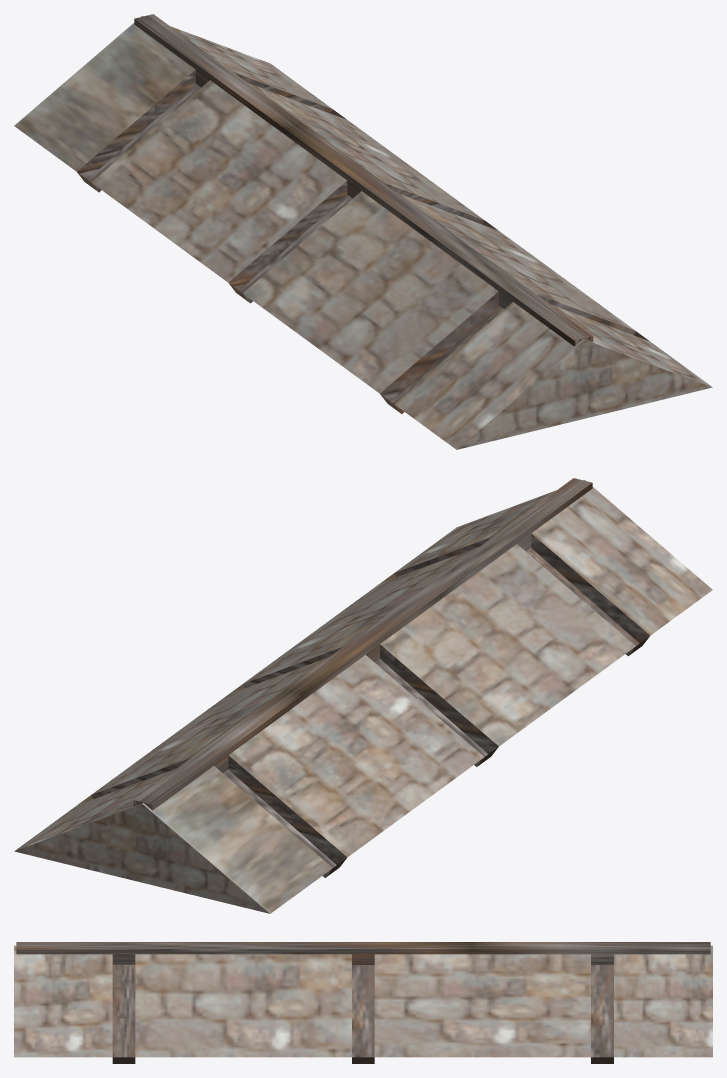
Rendered from dungeonHallway.glb.
The picture shows the model from 3 angles, top to bottom: view 1: azimuth 30°, elevation 25°; view 2: azimuth 150°, elevation 25°; view 3: azimuth 270°, elevation 25°; orthographic projection. The views are drawn at different scales.
Parts seen in each view (by area): view 1: dungeonHallwayRoof; view 2: dungeonHallwayRoof; view 3: dungeonHallwayRoof.
Boxes of the visible parts, x1,y1,x2,y2 form: dungeonHallwayRoof: (14,14,712,449); dungeonHallwayRoof: (14,478,712,913); dungeonHallwayRoof: (14,942,712,1063).
Bounding box in the file's own units: 4.1 × 1.4 × 12.27.
Materials: 2 (2 with a texture image).
